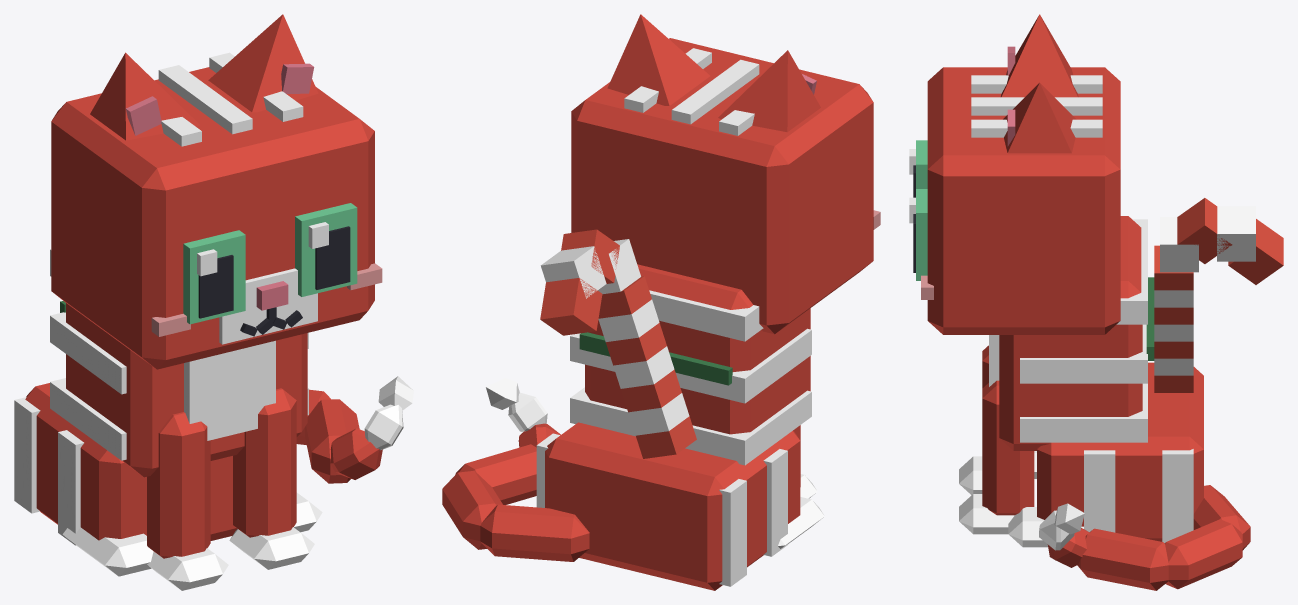
The model's file is CatCafe_Cat_CandyCane_Sit.glb.
The picture shows the model from 3 angles, left to right: view 1: azimuth 30°, elevation 25°; view 2: azimuth 150°, elevation 25°; view 3: azimuth 270°, elevation 25°; orthographic projection. The views are drawn at different scales.
Parts seen in each view (by area): view 1: CatCafe_Cat_CandyCane_Sit_Head, CatCafe_Cat_CandyCane_Sit_Body, CatCafe_Cat_CandyCane_Sit_LegF2, CatCafe_Cat_CandyCane_Sit_LegF1, CatCafe_Cat_CandyCane_Sit_Tail, CatCafe_Cat_CandyCane_Sit_EarL, CatCafe_Cat_CandyCane_Sit_Eye2, CatCafe_Cat_CandyCane_Sit_Eye1, CatCafe_Cat_CandyCane_Sit_EarR; view 2: CatCafe_Cat_CandyCane_Sit_Head, CatCafe_Cat_CandyCane_Sit_Body, CatCafe_Cat_CandyCane_Sit_Prop, CatCafe_Cat_CandyCane_Sit_Tail, CatCafe_Cat_CandyCane_Sit_EarL, CatCafe_Cat_CandyCane_Sit_EarR; view 3: CatCafe_Cat_CandyCane_Sit_Head, CatCafe_Cat_CandyCane_Sit_Body, CatCafe_Cat_CandyCane_Sit_Prop, CatCafe_Cat_CandyCane_Sit_Tail, CatCafe_Cat_CandyCane_Sit_LegF1, CatCafe_Cat_CandyCane_Sit_EarL, CatCafe_Cat_CandyCane_Sit_EarR, CatCafe_Cat_CandyCane_Sit_Eye1, CatCafe_Cat_CandyCane_Sit_LegF2, CatCafe_Cat_CandyCane_Sit_Eye2.
Part boxes in pixels (bbox=[...]): CatCafe_Cat_CandyCane_Sit_Head: bbox=[51, 52, 382, 369]; CatCafe_Cat_CandyCane_Sit_Body: bbox=[14, 249, 322, 576]; CatCafe_Cat_CandyCane_Sit_LegF2: bbox=[147, 412, 228, 590]; CatCafe_Cat_CandyCane_Sit_LegF1: bbox=[229, 388, 314, 569]; CatCafe_Cat_CandyCane_Sit_Tail: bbox=[296, 376, 413, 483]; CatCafe_Cat_CandyCane_Sit_EarL: bbox=[208, 14, 318, 112]; CatCafe_Cat_CandyCane_Sit_Eye2: bbox=[183, 230, 245, 324]; CatCafe_Cat_CandyCane_Sit_Eye1: bbox=[295, 203, 357, 296]; CatCafe_Cat_CandyCane_Sit_EarR: bbox=[90, 52, 199, 140]; CatCafe_Cat_CandyCane_Sit_Head: bbox=[571, 38, 880, 334]; CatCafe_Cat_CandyCane_Sit_Body: bbox=[536, 264, 824, 590]; CatCafe_Cat_CandyCane_Sit_Prop: bbox=[540, 229, 732, 458]; CatCafe_Cat_CandyCane_Sit_Tail: bbox=[442, 378, 589, 561]; CatCafe_Cat_CandyCane_Sit_EarL: bbox=[607, 14, 709, 105]; CatCafe_Cat_CandyCane_Sit_EarR: bbox=[718, 50, 820, 132]; CatCafe_Cat_CandyCane_Sit_Head: bbox=[921, 67, 1120, 334]; CatCafe_Cat_CandyCane_Sit_Body: bbox=[989, 216, 1203, 547]; CatCafe_Cat_CandyCane_Sit_Prop: bbox=[1146, 198, 1283, 392]; CatCafe_Cat_CandyCane_Sit_Tail: bbox=[1039, 485, 1250, 590]; CatCafe_Cat_CandyCane_Sit_LegF1: bbox=[959, 380, 1034, 534]; CatCafe_Cat_CandyCane_Sit_EarL: bbox=[1003, 82, 1076, 153]; CatCafe_Cat_CandyCane_Sit_EarR: bbox=[1001, 14, 1078, 97]; CatCafe_Cat_CandyCane_Sit_Eye1: bbox=[909, 189, 927, 280]; CatCafe_Cat_CandyCane_Sit_LegF2: bbox=[959, 345, 988, 495]; CatCafe_Cat_CandyCane_Sit_Eye2: bbox=[909, 140, 927, 197].
Bounding box in the file's own units: 1.28 × 1.85 × 1.36.
Materials: 1 (1 with a texture image).
